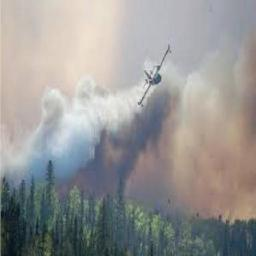Heavy smoke: (2, 63, 256, 189)
